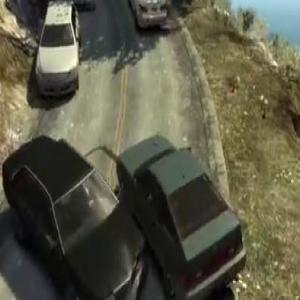low_impact: (0, 123, 252, 300)
